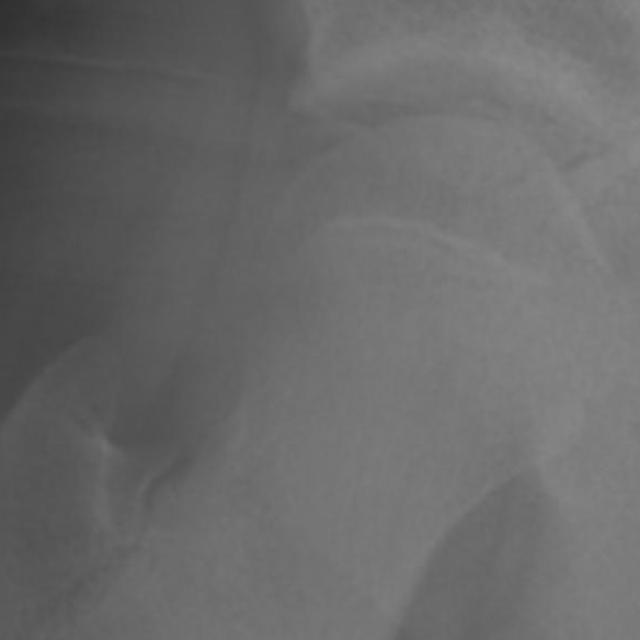Fitted_femural_head: (385, 119, 432, 385)
